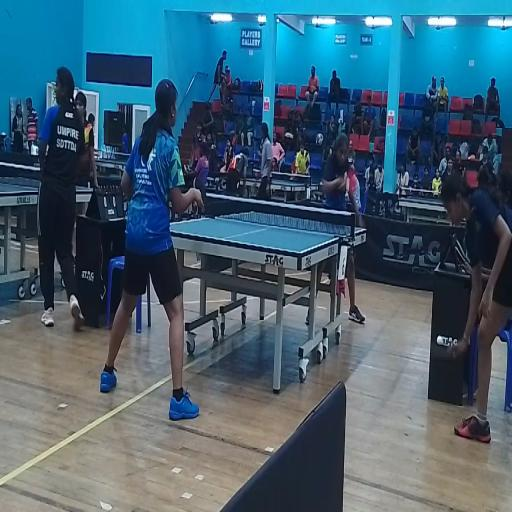ball: (346, 178, 350, 190)
